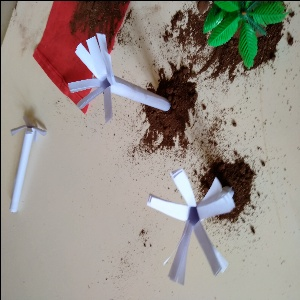plant: (195, 1, 293, 77)
weed: (141, 159, 239, 282), (63, 38, 168, 129), (6, 119, 44, 223)
